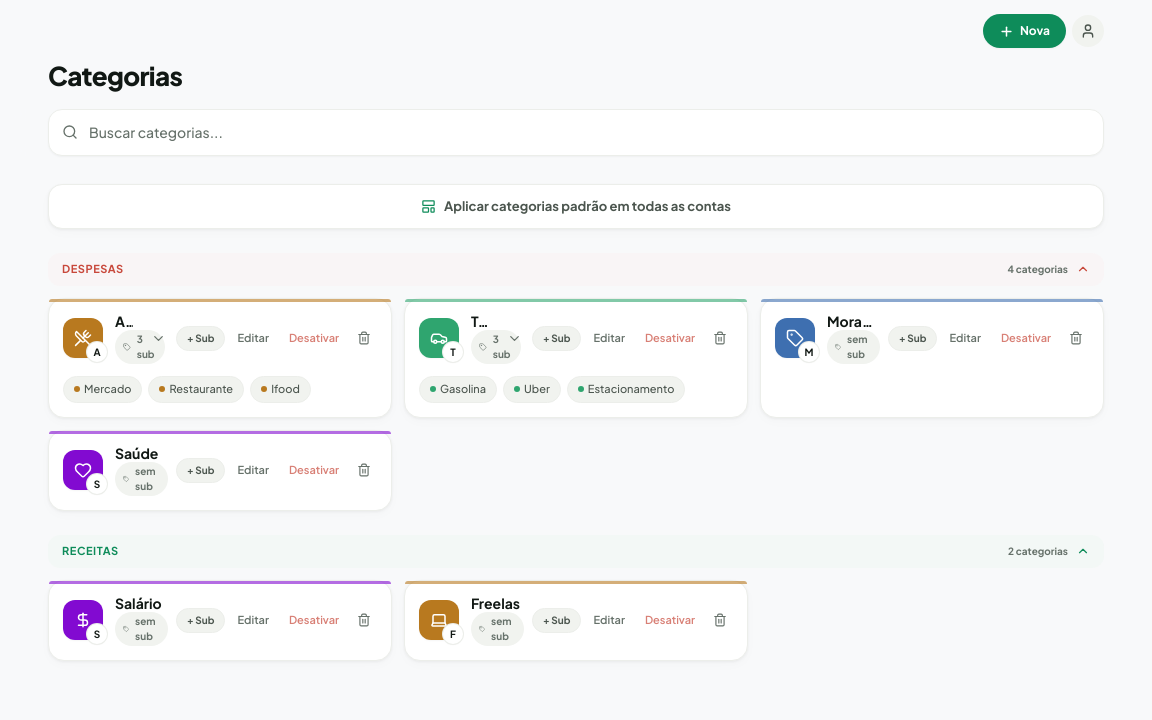
Test: CategoriesPage – Redesign Moderno (TDD RED) › filtra categorias ao digitar na busca (rápida)
In the field with placeholder "Buscar categorias...": (576, 132) [48, 108, 1104, 156], type "Alimentação"
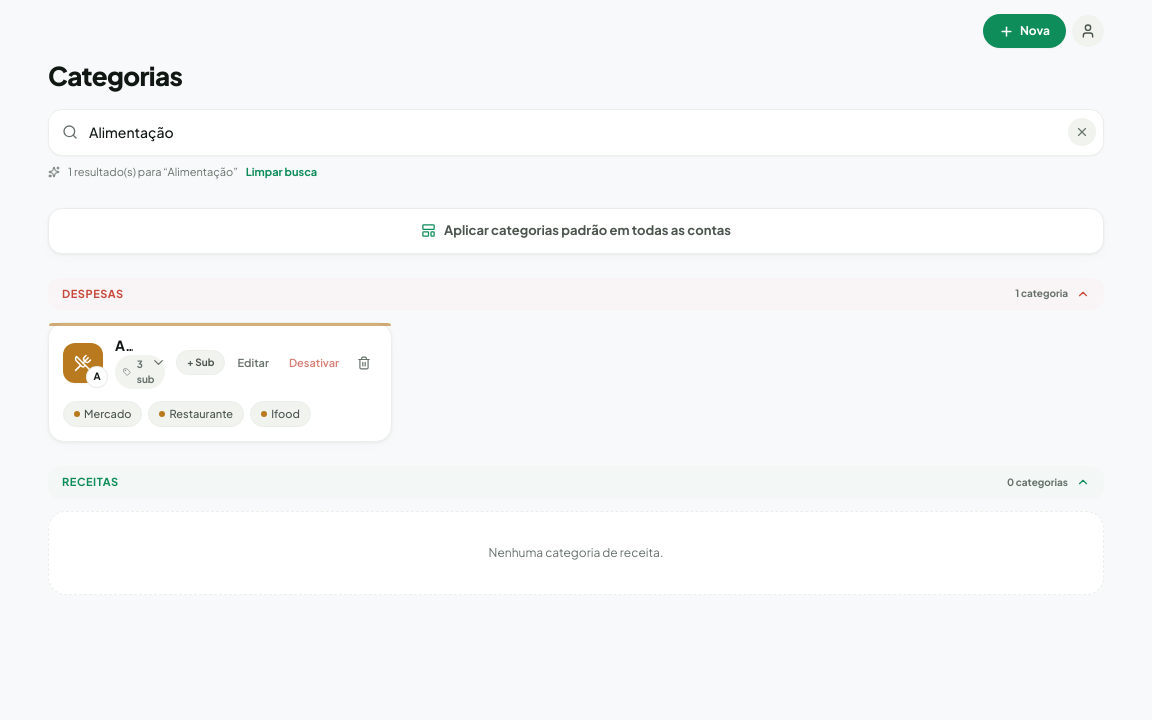
Expected: the text "Alimentação" is shown, [115, 337, 133, 354]
Expected: the text "Transporte" is gone
limpar busca mostra novamente
Clear the field with placeholder "Buscar categorias...": (576, 132) [48, 108, 1104, 156]
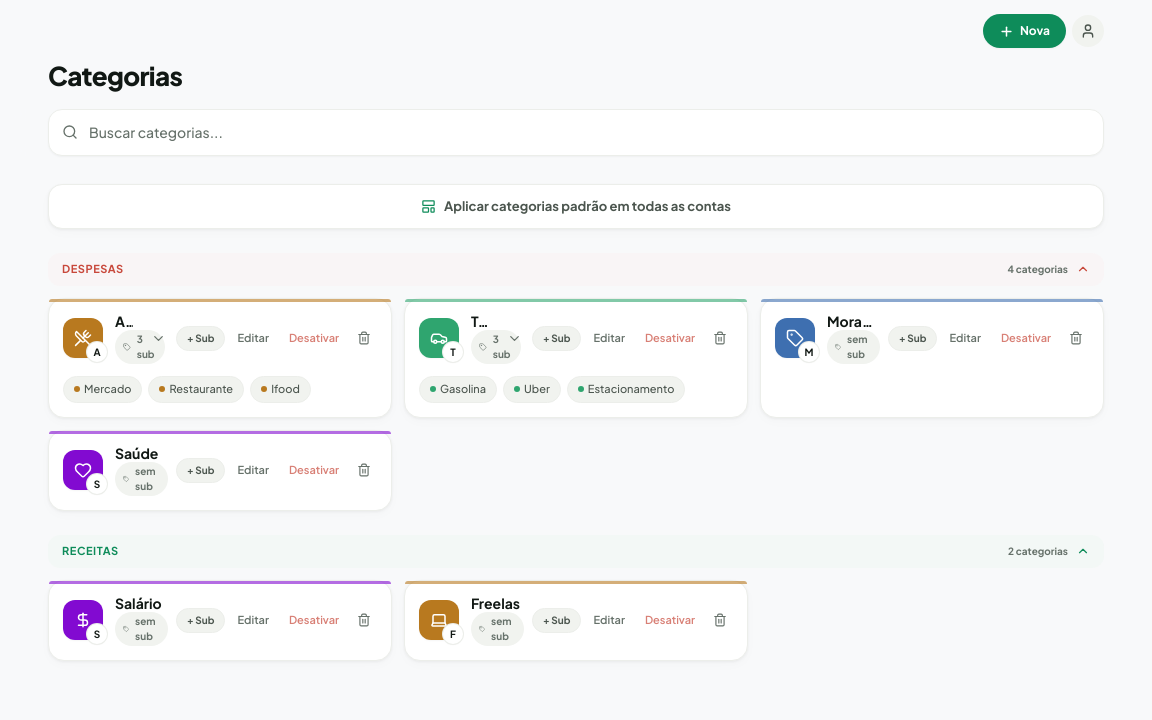
Expected: the text "Transporte" is shown, [471, 312, 489, 330]
